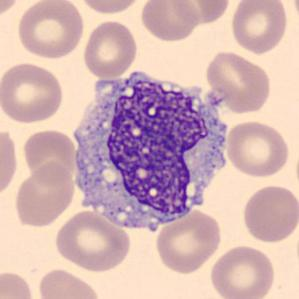Monocyte: (66, 62, 235, 238)
RBC: (53, 208, 132, 274), (154, 207, 224, 275), (204, 49, 272, 115), (13, 161, 78, 229), (14, 0, 86, 60), (0, 60, 66, 125), (223, 118, 291, 179), (208, 243, 278, 299), (80, 18, 139, 80), (240, 183, 298, 244), (228, 0, 291, 55), (21, 127, 78, 185), (138, 0, 201, 43), (36, 267, 102, 299), (168, 0, 232, 26), (0, 126, 20, 201), (0, 268, 37, 299), (75, 0, 146, 15), (0, 0, 20, 21)
